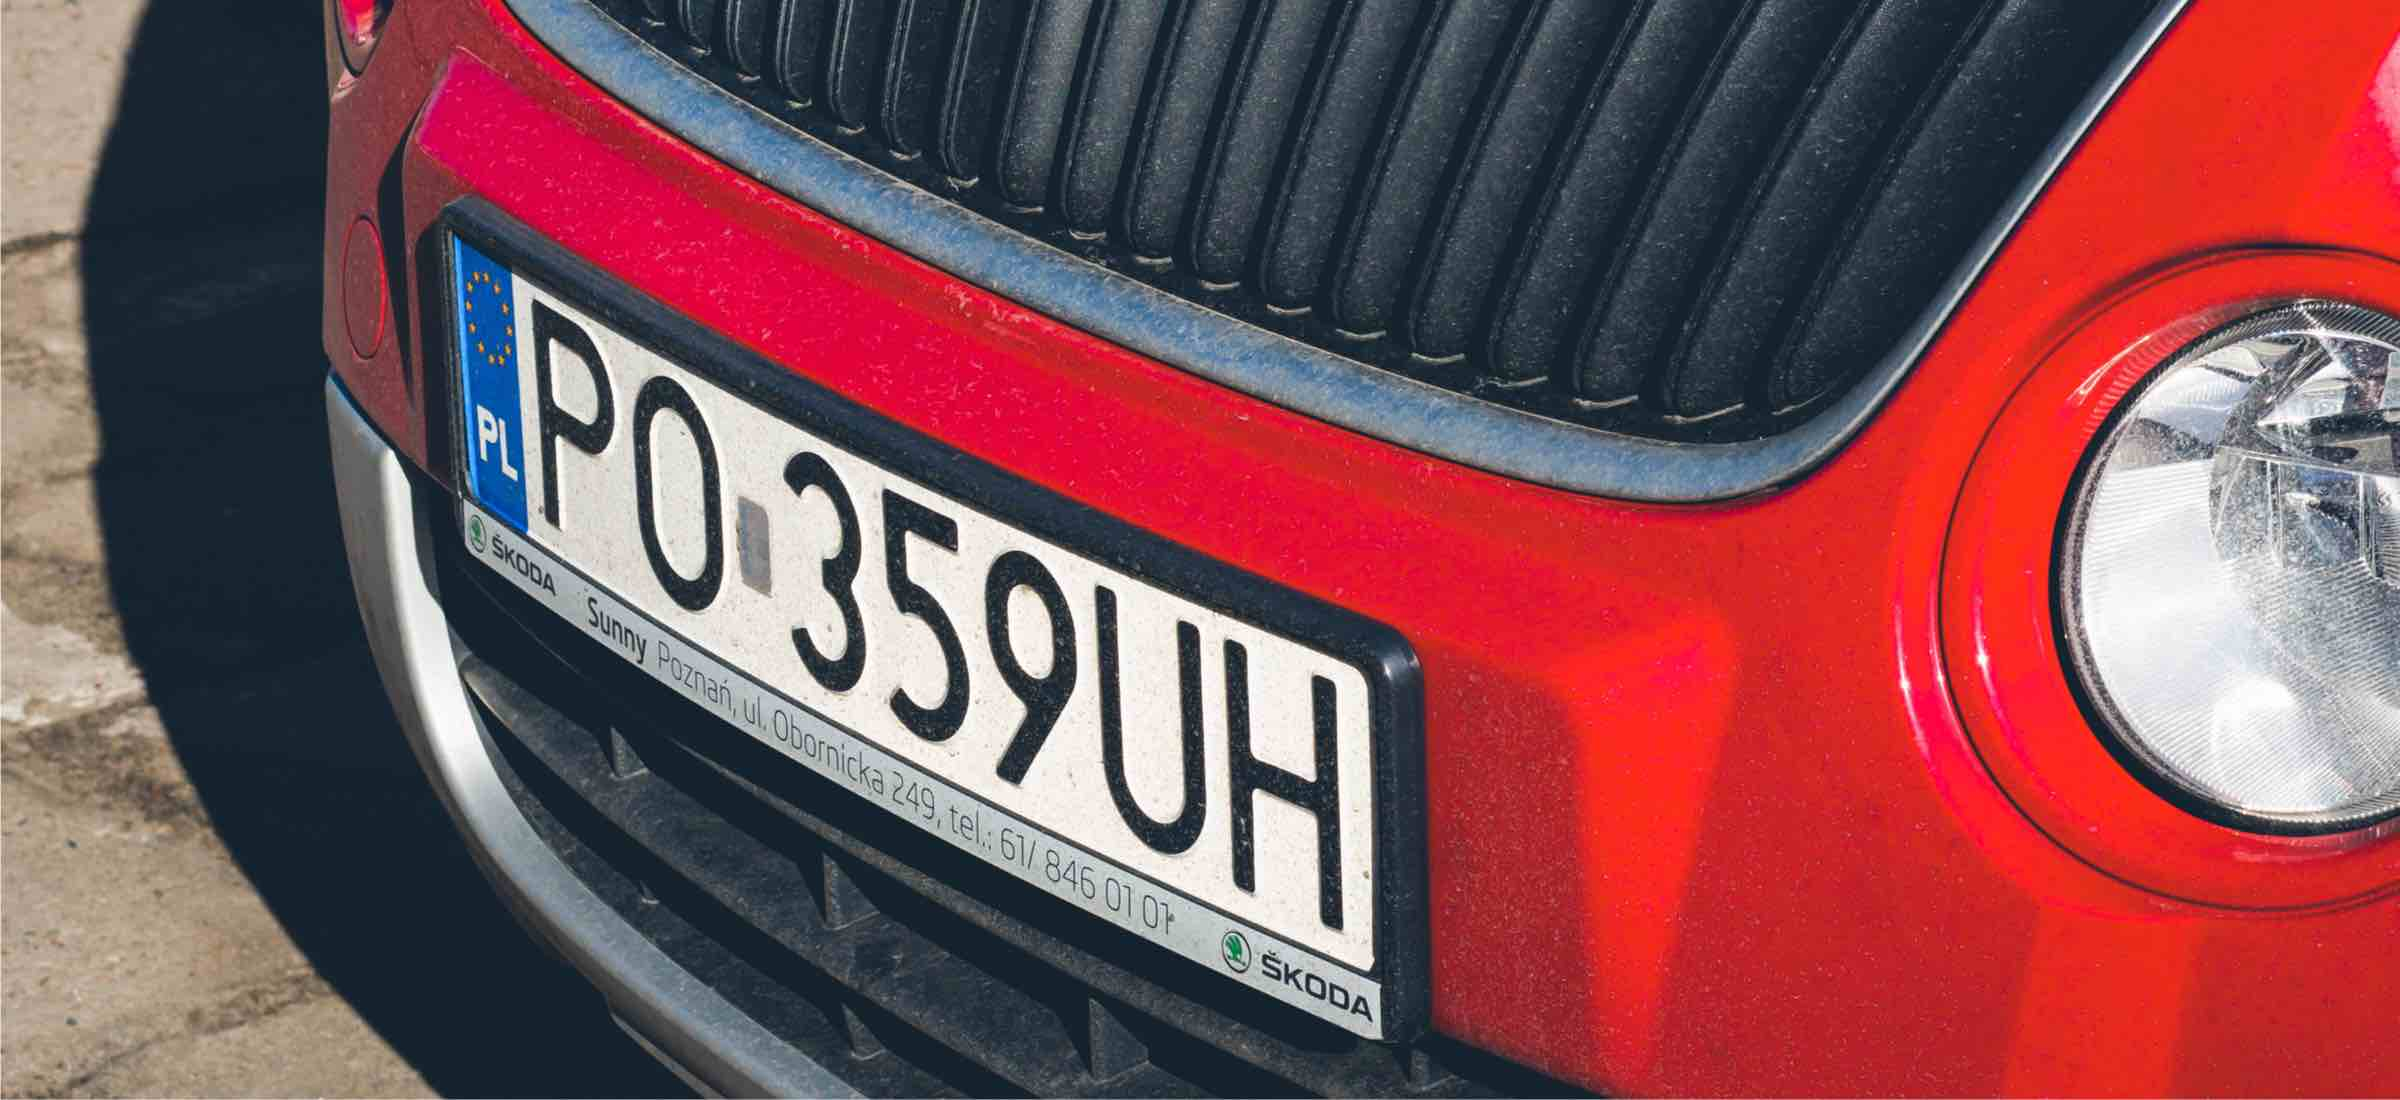number_plate: (446, 199, 1408, 1045)
